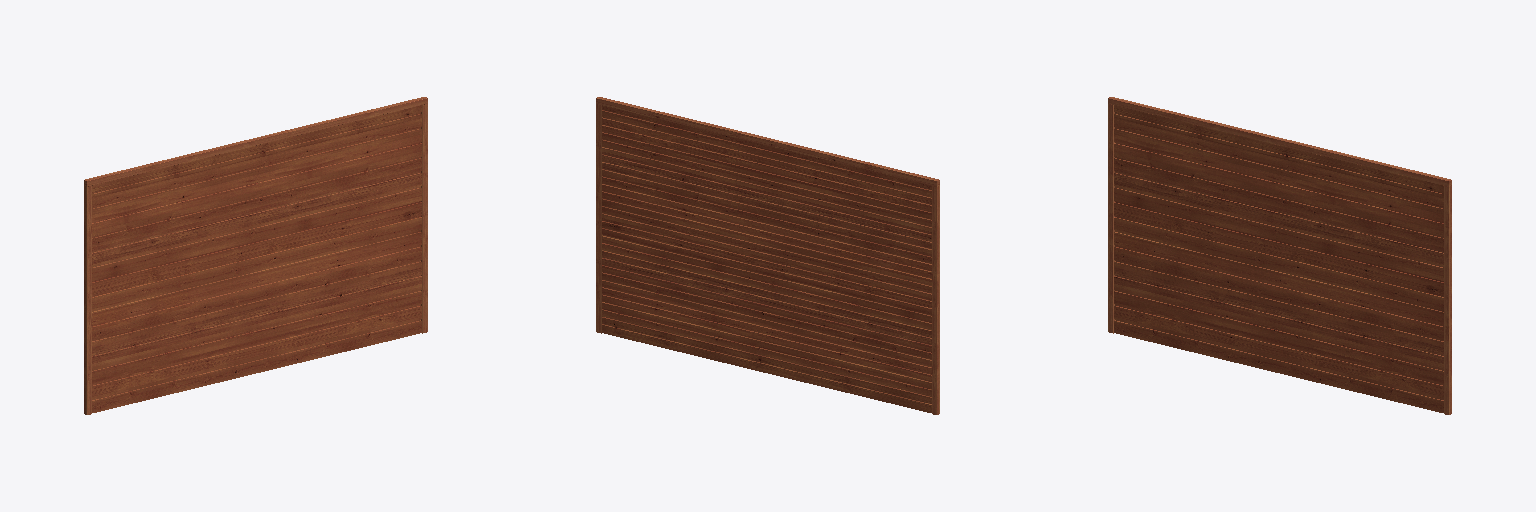
3 views of the same model, side by side, from view 1: azimuth 30°, elevation 25°; view 2: azimuth 150°, elevation 25°; view 3: azimuth 330°, elevation 25° (orthographic).
Parts seen in each view (by area): view 1: wall_planks, trim_top, trim_left, trim_right; view 2: wall_planks, trim_top, trim_left, trim_right; view 3: wall_planks, trim_top, trim_right, trim_left.
Part boxes in pixels (x1,y1,x2,y2): wall_planks: (92, 105, 421, 412); trim_top: (84, 97, 427, 186); trim_left: (84, 185, 91, 414); trim_right: (421, 104, 427, 333); wall_planks: (602, 105, 931, 412); trim_top: (596, 97, 939, 186); trim_left: (932, 185, 939, 414); trim_right: (596, 104, 602, 333); wall_planks: (1114, 105, 1443, 412); trim_top: (1108, 97, 1451, 186); trim_right: (1444, 185, 1451, 414); trim_left: (1108, 104, 1114, 333).
Size of the model in its own units: 144 by 94.5 by 1.82.
4 materials, 3 textured.